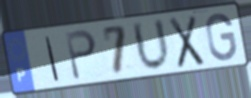7: (101, 23, 132, 78)
G: (204, 11, 239, 62)
I: (44, 35, 62, 83)
P: (63, 28, 98, 83)
U: (130, 16, 173, 74)
X: (167, 13, 206, 71)
